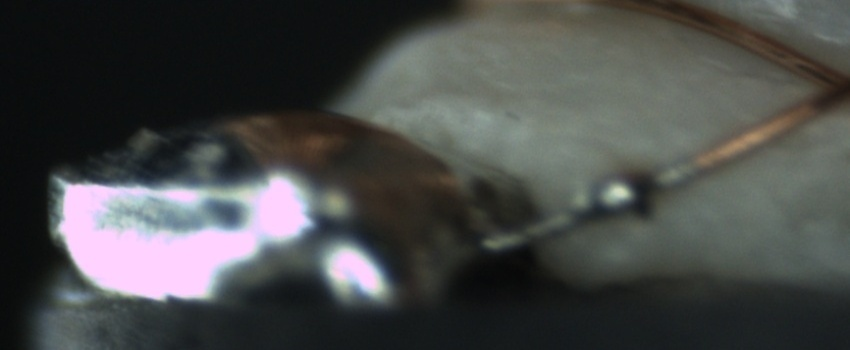CL: (794, 58, 850, 114)
TB: (585, 168, 650, 222)
TS: (480, 158, 683, 254)
TTCW: (471, 138, 742, 257)
